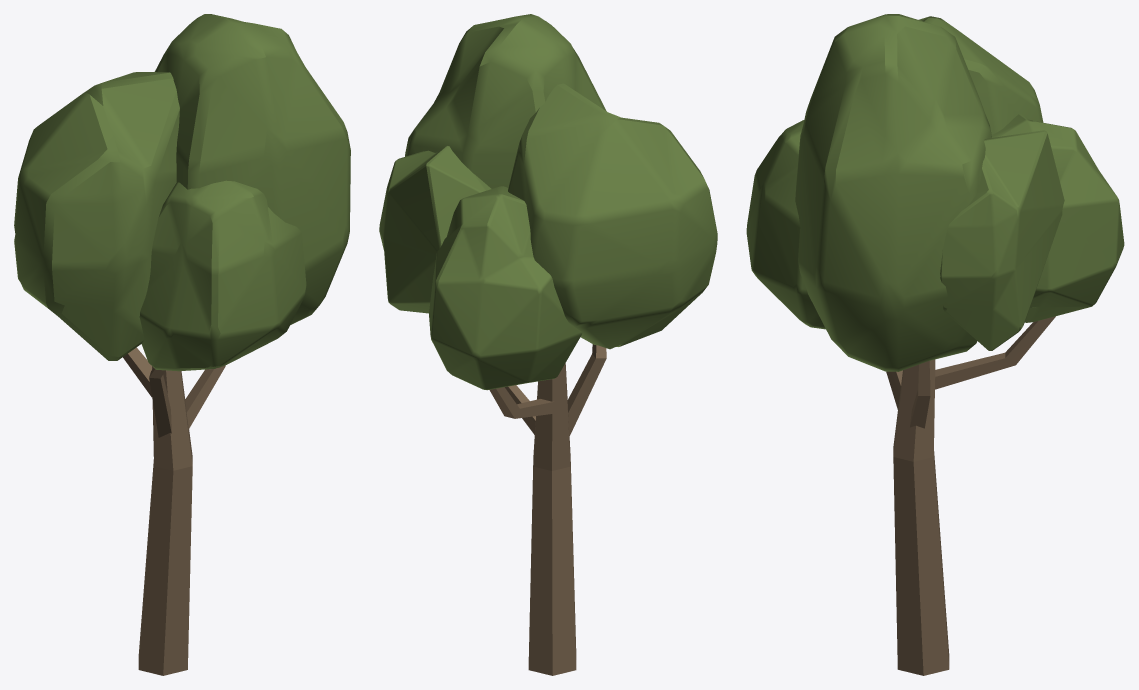
File: Struik.fbx
3 renders of one model, left to right at view 1: azimuth 30°, elevation 25°; view 2: azimuth 150°, elevation 25°; view 3: azimuth 270°, elevation 25°, orthographic. The views are drawn at different scales.
Parts seen in each view (by area): view 1: polySurface254; view 2: polySurface254; view 3: polySurface254.
Boxes of the visible parts, box(x1,y1,x2,y2) form: polySurface254: box(14, 14, 350, 675); polySurface254: box(379, 14, 717, 675); polySurface254: box(746, 14, 1124, 675).
Bounding box in the file's own units: 1.67 × 3.37 × 1.72.
